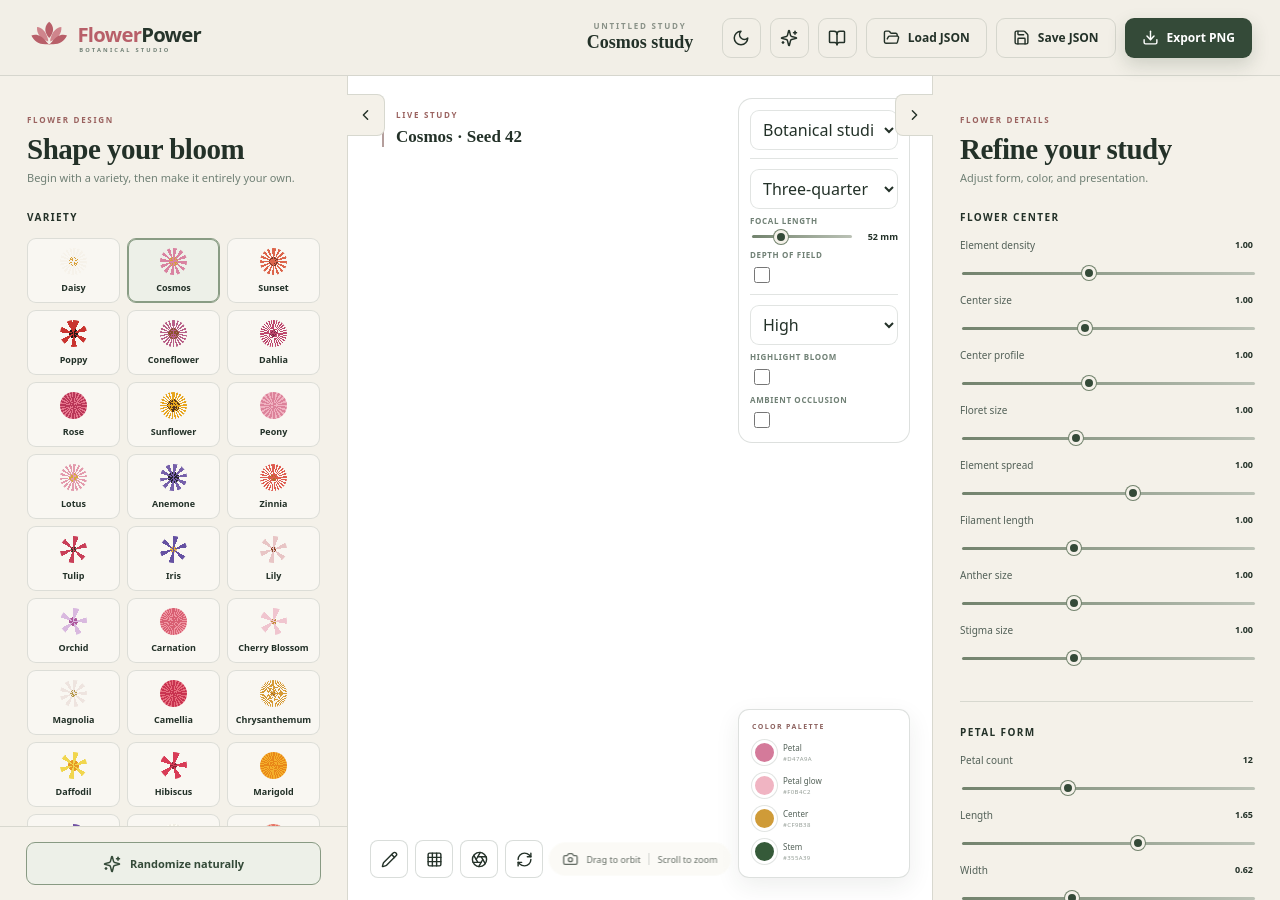
Test: FlowerStudio › downloads a design file without using the API in file mode
The width and height of the screenshot is (1280, 900).
Expected: the button "Load JSON" is shown, x1=866 y1=18 x2=987 y2=58
Click the button "Save JSON": point(1056, 38) x1=996 y1=18 x2=1116 y2=58
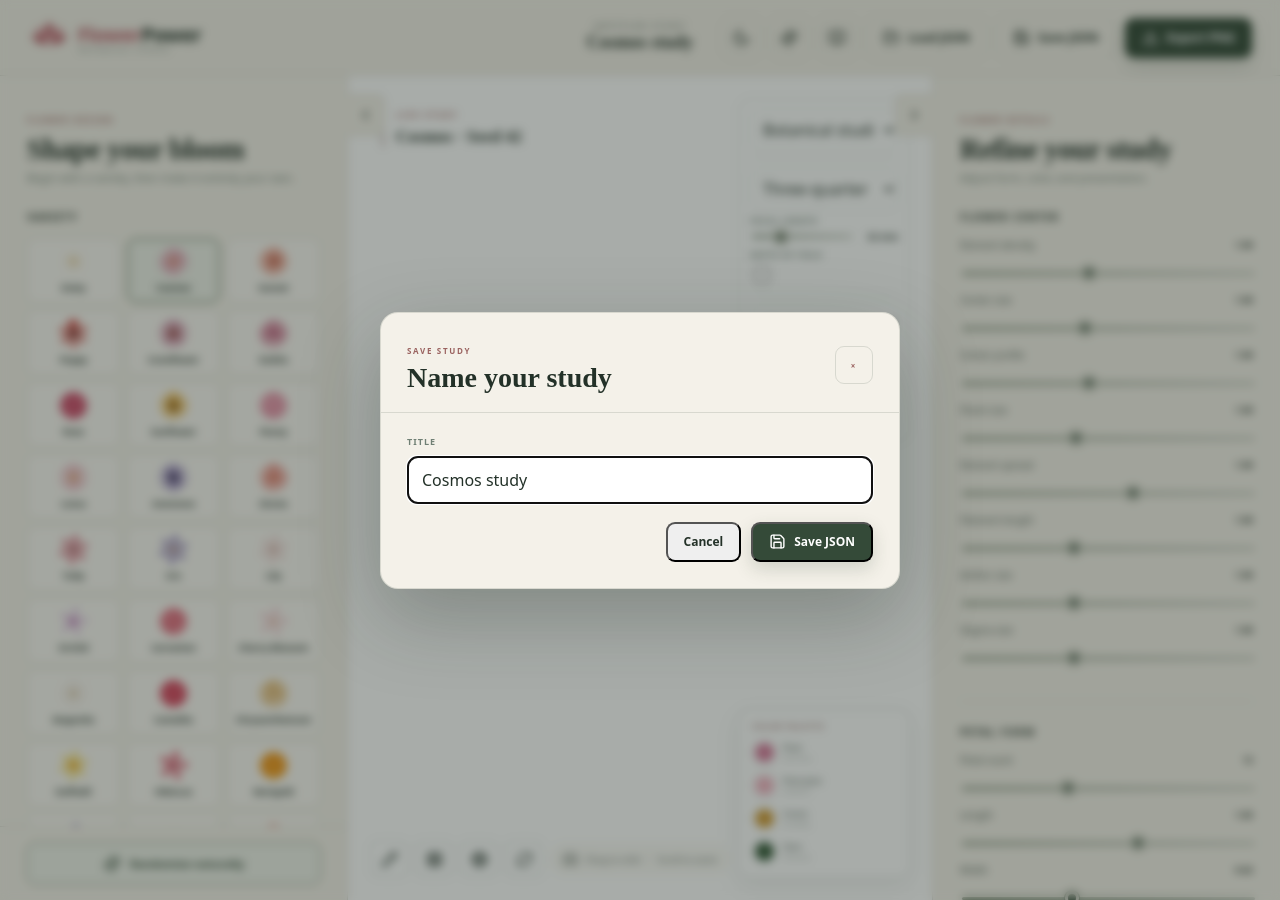
Click the button "Save JSON": point(812, 542) x1=751 y1=522 x2=873 y2=562
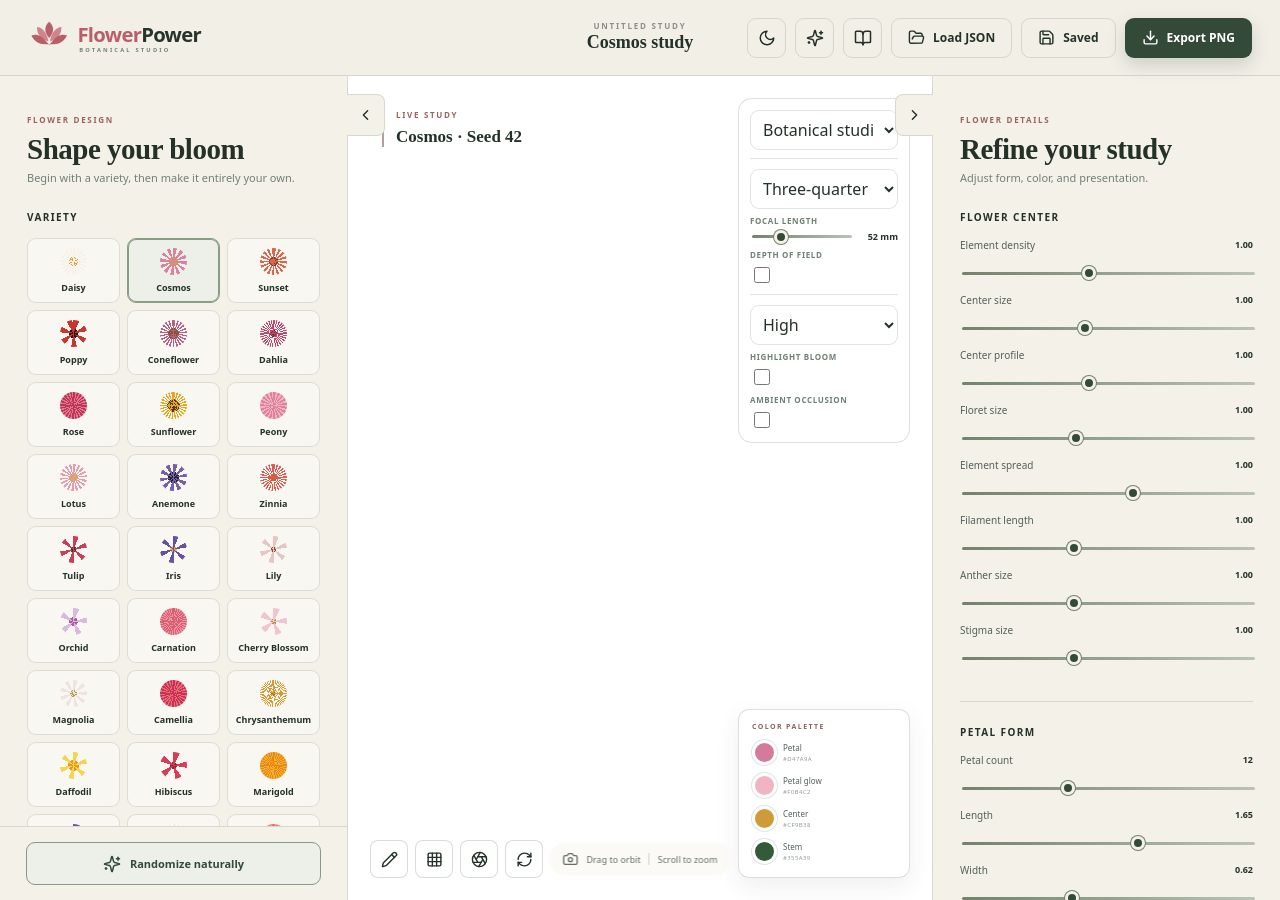
Result: the button "Saved" is shown at x1=1021 y1=18 x2=1116 y2=58
